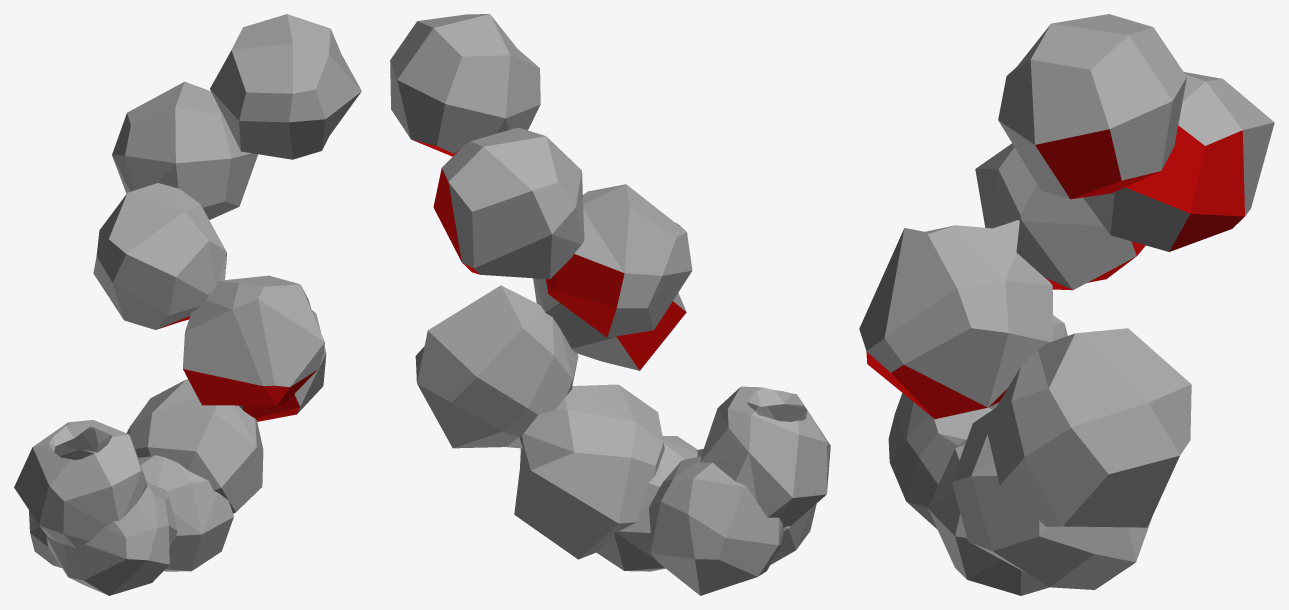
File: Cave export12.fbx
3 views of the same model, side by side, from view 1: azimuth 30°, elevation 25°; view 2: azimuth 150°, elevation 25°; view 3: azimuth 270°, elevation 25° (orthographic). The views are drawn at different scales.
Visible parts, largest first — view 1: polySurface327, polySurface326; view 2: polySurface327, polySurface326; view 3: polySurface327, polySurface326.
Part boxes in pixels (left/top/right/bottom): polySurface327: left=14, top=14, right=361, bottom=595; polySurface326: left=159, top=316, right=316, bottom=421; polySurface327: left=390, top=14, right=830, bottom=595; polySurface326: left=413, top=140, right=686, bottom=370; polySurface327: left=859, top=14, right=1274, bottom=595; polySurface326: left=866, top=125, right=1244, bottom=418.
Bounding box in the file's own units: 5.34 × 7.1 × 4.03.
